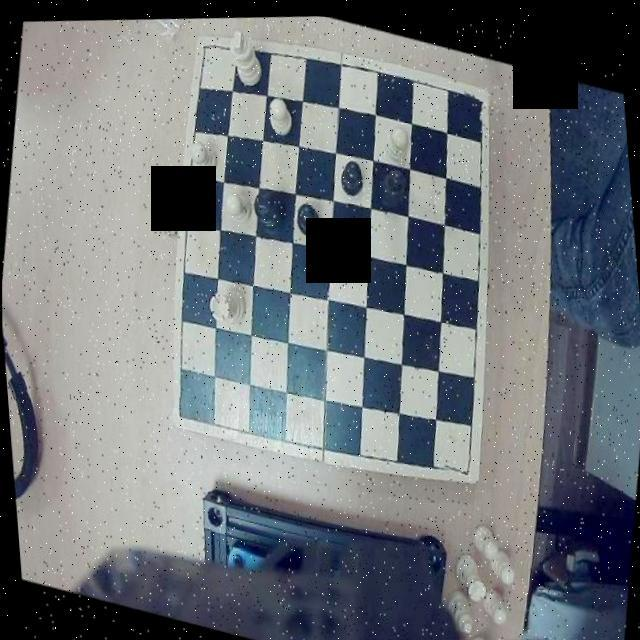chess-table-corners: (440, 438, 480, 480), (458, 80, 492, 119), (170, 391, 205, 428), (193, 30, 223, 66)
